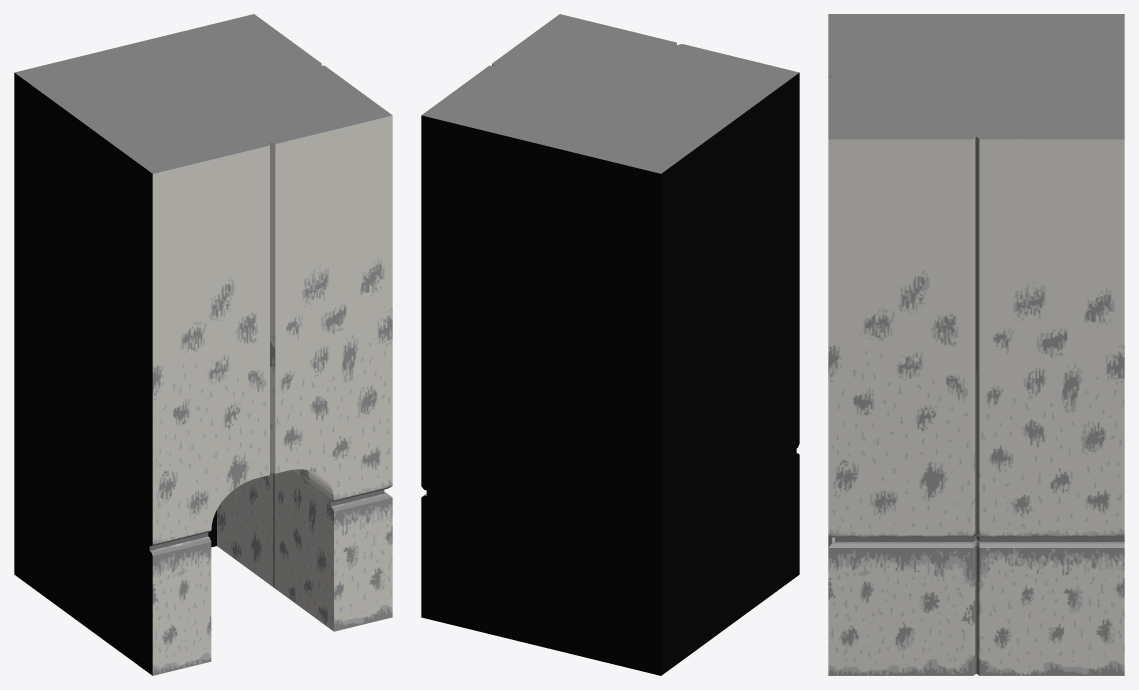
Rendered from Door.fbx.
3 views of the same model, side by side, from view 1: azimuth 30°, elevation 25°; view 2: azimuth 150°, elevation 25°; view 3: azimuth 270°, elevation 25° (orthographic). The views are drawn at different scales.
Visible parts, largest first — view 1: Door; view 2: Door; view 3: Door.
Boxes of the visible parts, x1,y1,x2,y2 form: Door: (14,14,392,675); Door: (421,14,799,675); Door: (828,14,1124,675).
Size of the model in its own units: 1100 by 2200 by 1100.
